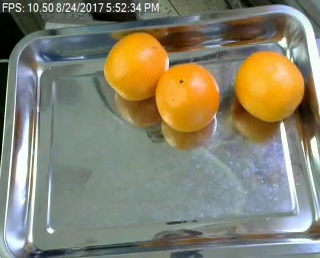Orange: (235, 49, 305, 122), (103, 30, 170, 102), (156, 62, 220, 133)
